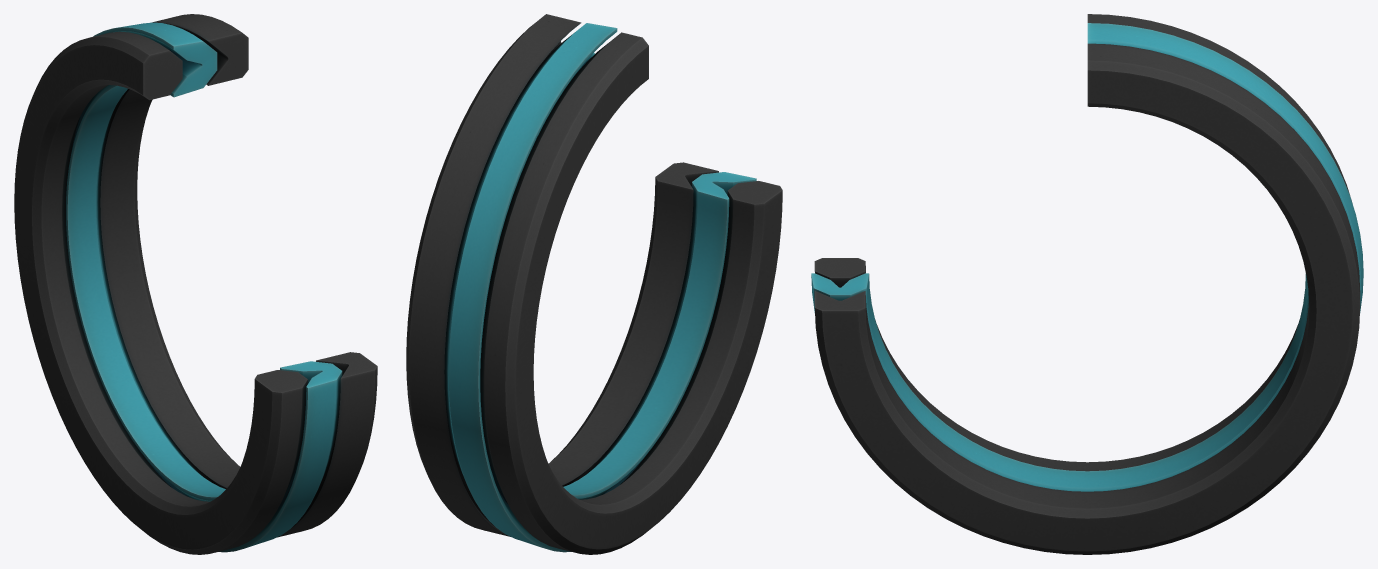
The picture shows the model from 3 angles, left to right: view 1: azimuth 30°, elevation 25°; view 2: azimuth 150°, elevation 25°; view 3: azimuth 270°, elevation 25°; orthographic projection. The views are drawn at different scales.
Parts seen in each view (by area): view 1: PR00065_turcon_v-stack_chevron_seal; view 2: PR00065_turcon_v-stack_chevron_seal; view 3: PR00065_turcon_v-stack_chevron_seal.
Part boxes in pixels (box(x1,y1,x2,y2)): PR00065_turcon_v-stack_chevron_seal: box(14, 14, 377, 554); PR00065_turcon_v-stack_chevron_seal: box(406, 14, 782, 554); PR00065_turcon_v-stack_chevron_seal: box(811, 14, 1363, 554).
Size of the model in its own units: 0.0449 by 0.1983 by 0.1983.
Materials: 1 (1 with a texture image).
